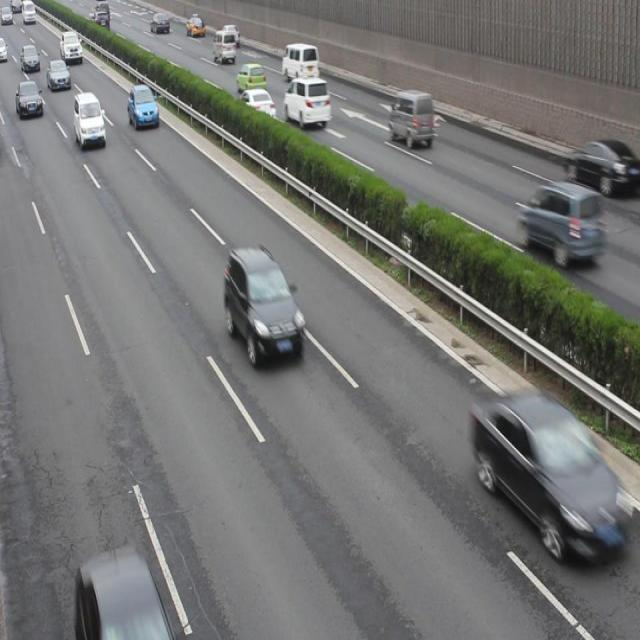car: (470, 393, 631, 562), (225, 244, 305, 364), (77, 554, 175, 640), (517, 182, 603, 266), (564, 136, 640, 196), (282, 80, 330, 125), (74, 92, 104, 150), (239, 88, 275, 125), (128, 84, 158, 122), (236, 62, 266, 94), (16, 81, 42, 117), (46, 58, 70, 89), (61, 32, 83, 62), (185, 13, 204, 37), (22, 44, 39, 70), (151, 12, 168, 32), (222, 27, 238, 46)
truck: (389, 92, 432, 147), (282, 43, 319, 84), (213, 30, 236, 61)
